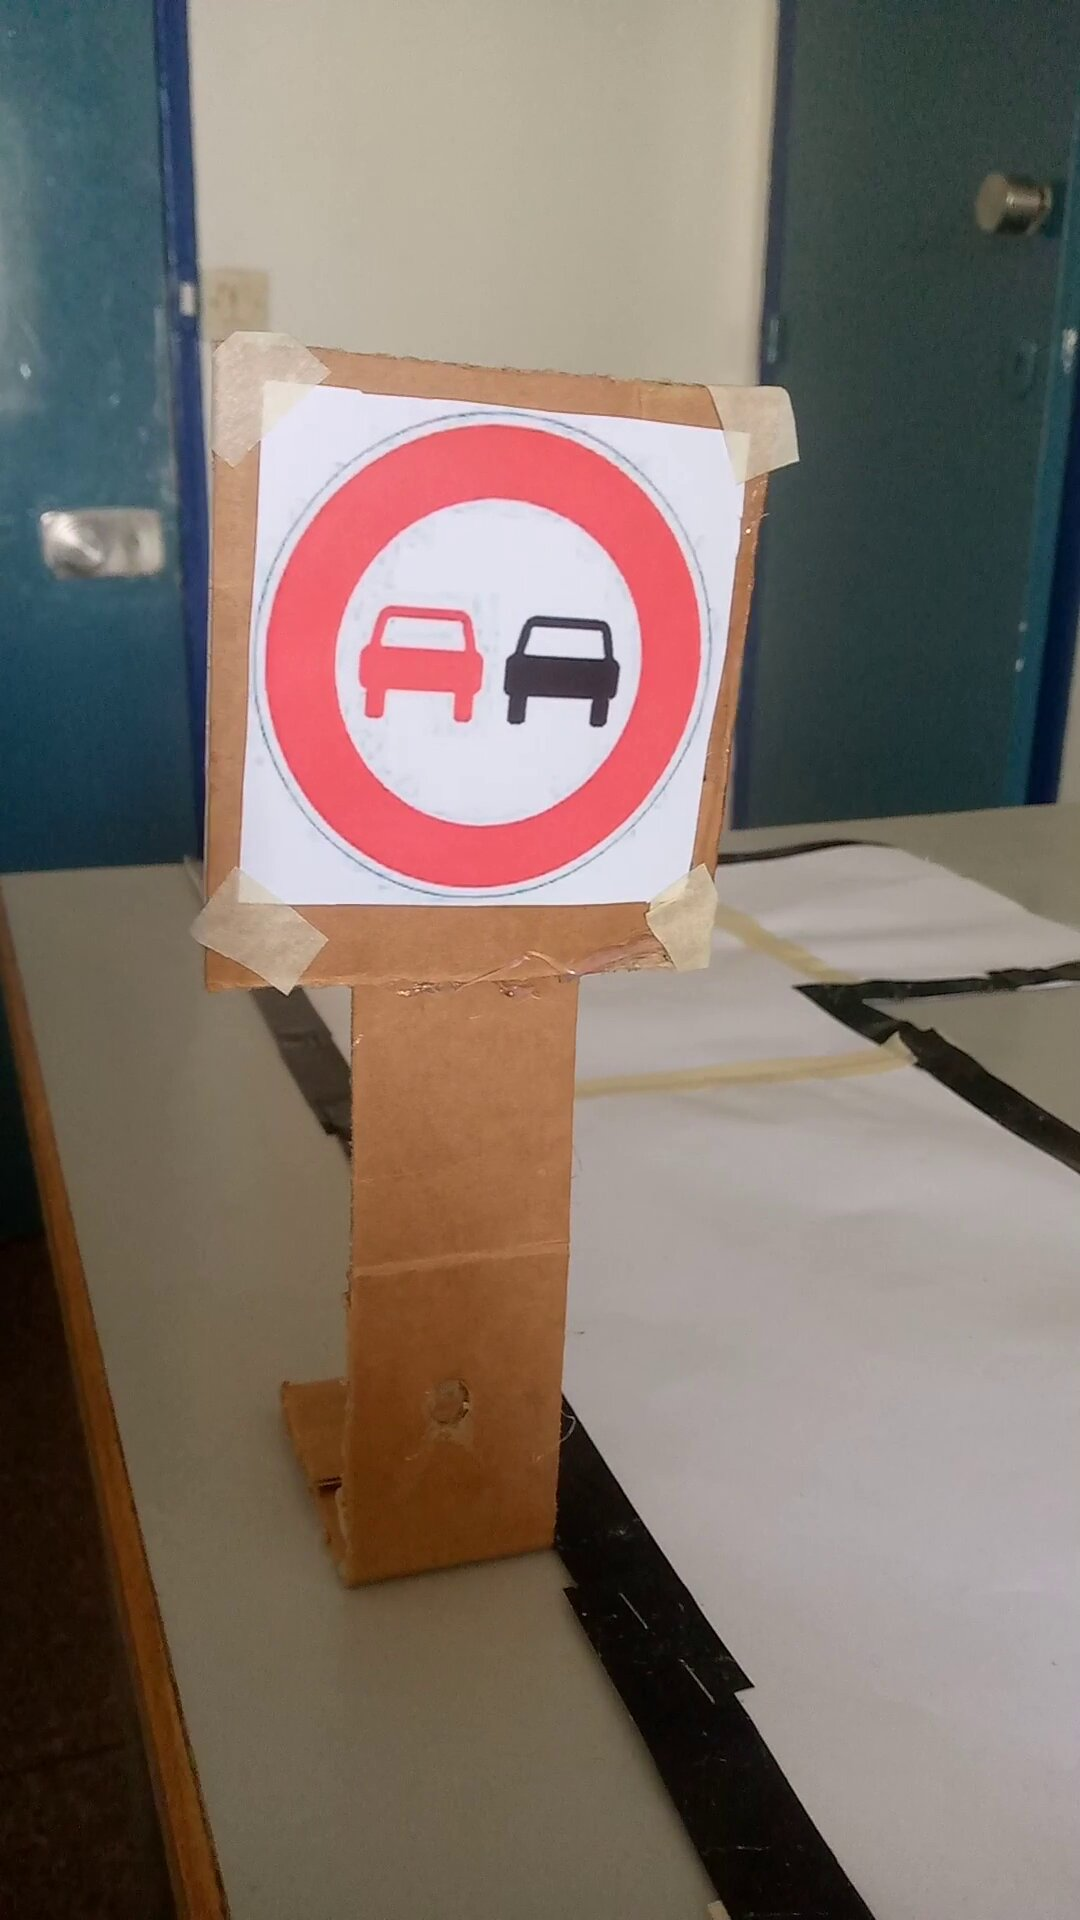panel100: (264, 409, 721, 886)
